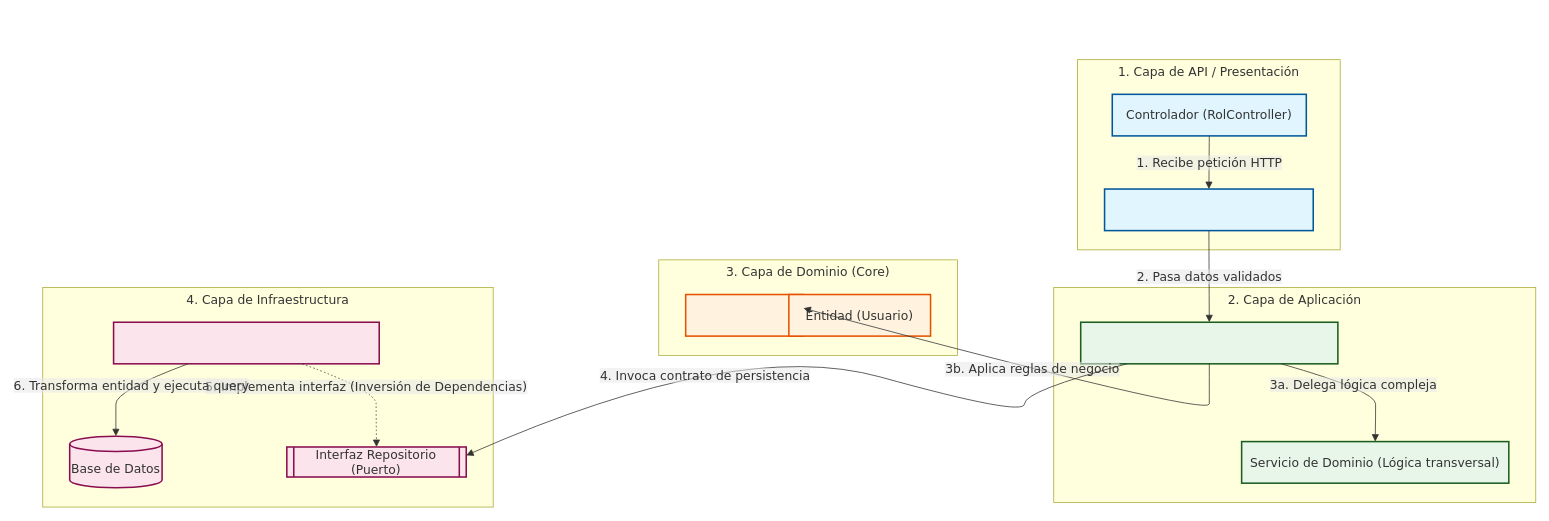
This 1549x521 diagram has some shape labels left out. Here are the shapes that lost their labels. From the top down, the centre of each, then its label:
At point 1208,209: "Validación y Mapeo (RolDTO)".
At point 744,314: "Entidad (Rol)".
At point 246,342: "Implementación Repositorio (MongoDB)".
At point 1209,342: "Caso de Uso (Ej: AsignarRolUseCase)".
